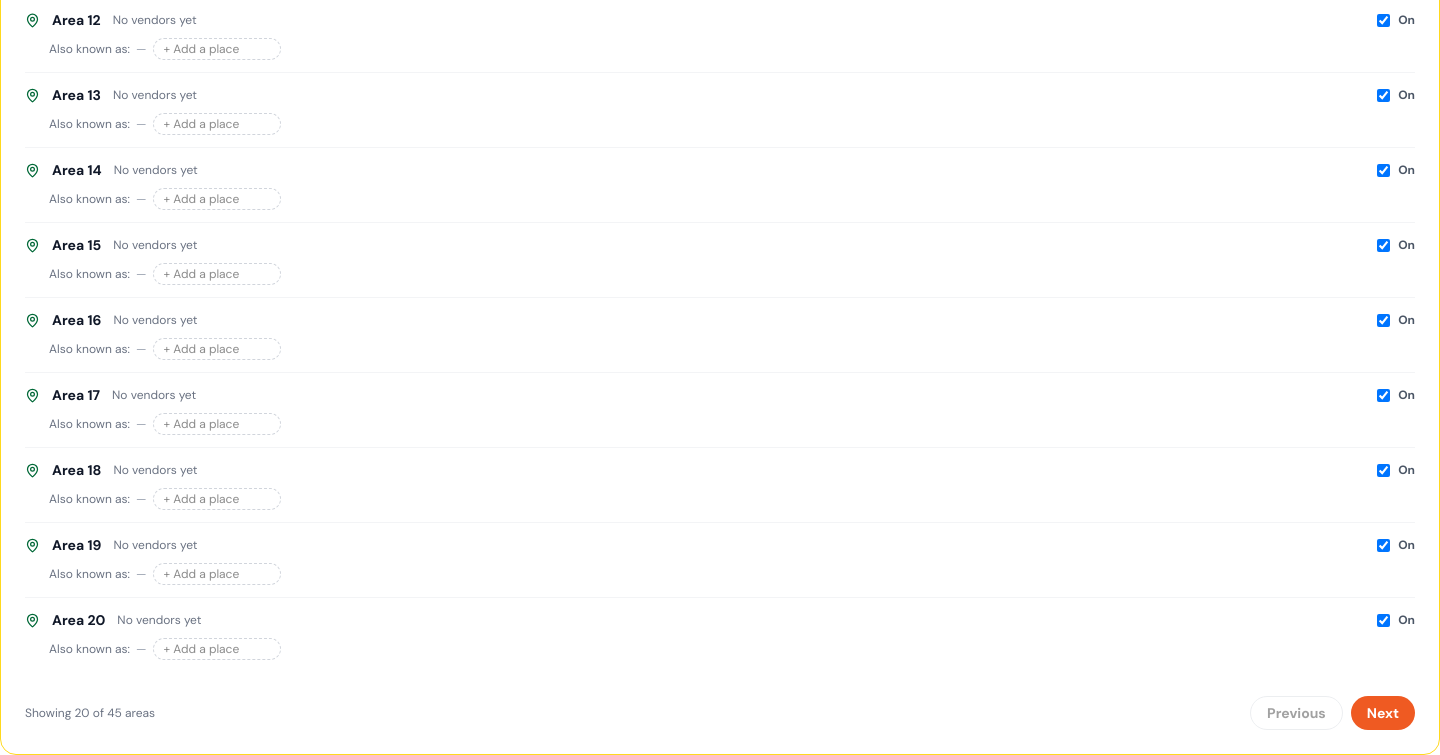
Test case: Areas › pages › shows twenty areas a page, and moves between pages
(page scrolled)
Expected: the text "Showing 20 of 45 areas" is shown, [25, 705, 155, 721]
Click the button "Next": (1383, 713) [1351, 696, 1415, 730]
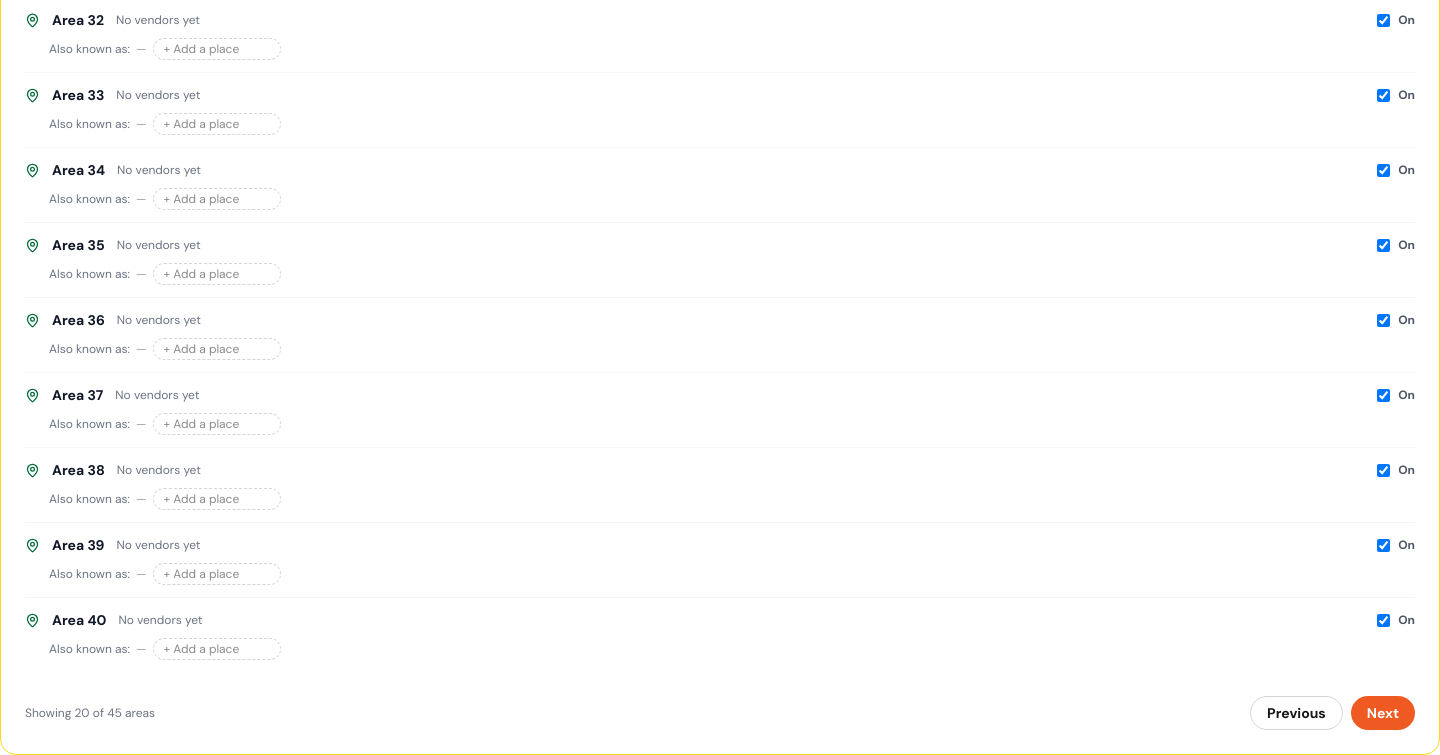
Click the button "Next": (1383, 713) [1351, 696, 1415, 730]
(page scrolled)
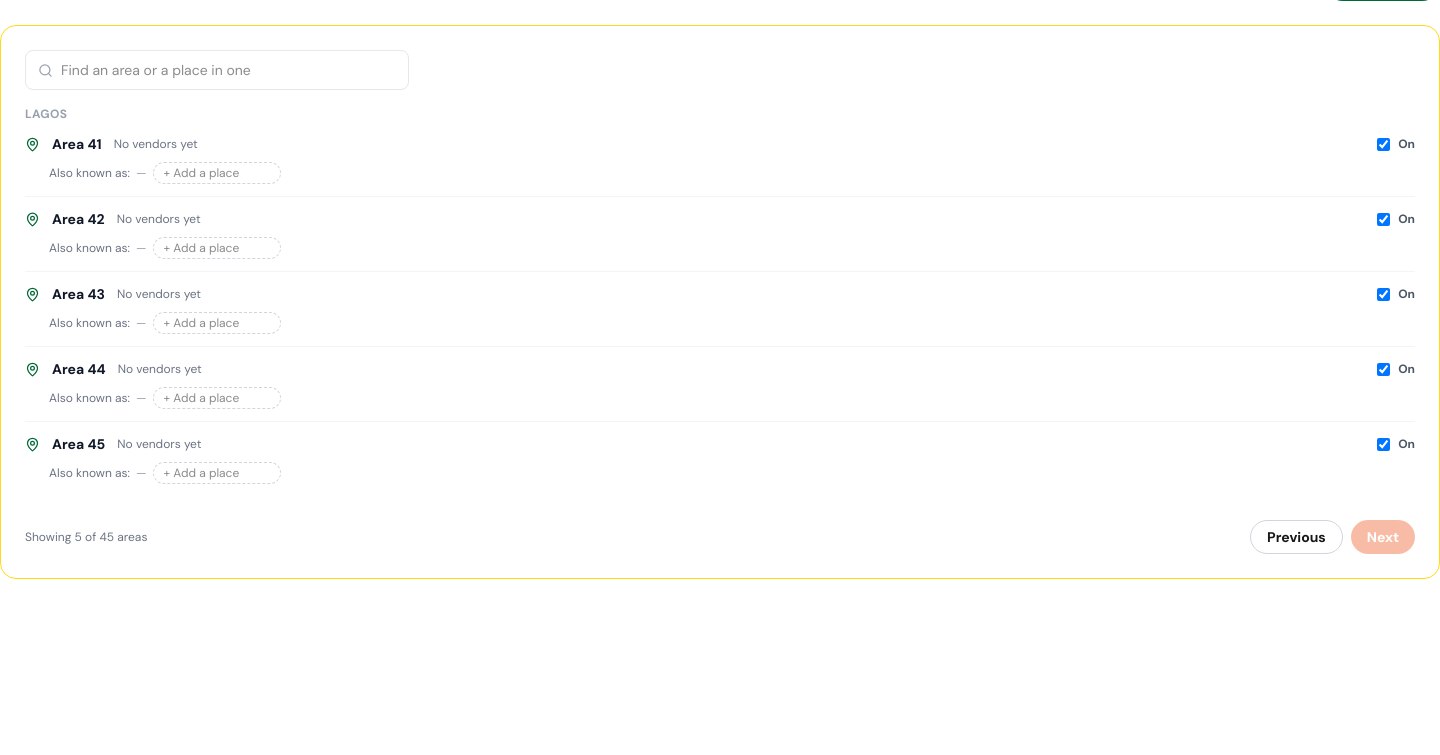
Now the text "Showing 5 of 45 areas" is shown, box [25, 529, 147, 545]
